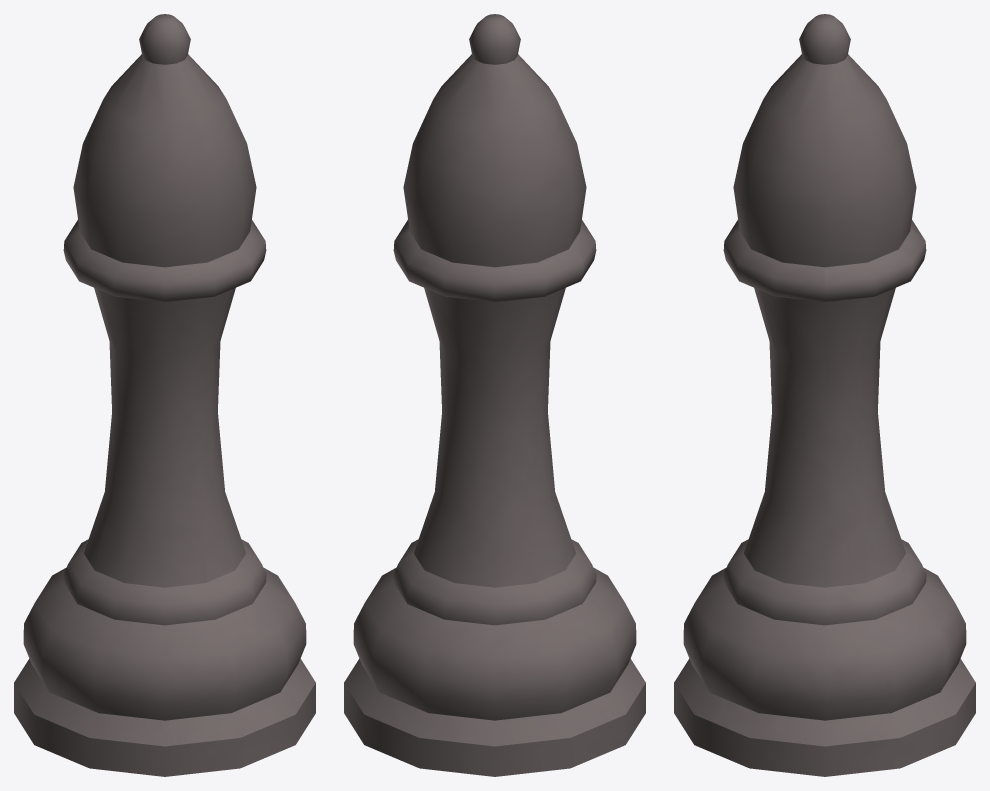
The model's file is Chess_Black_rook.fbx.
3 renders of one model, left to right at view 1: azimuth 30°, elevation 25°; view 2: azimuth 150°, elevation 25°; view 3: azimuth 270°, elevation 25°, orthographic.
Parts seen in each view (by area): view 1: Chess_pawn.002; view 2: Chess_pawn.002; view 3: Chess_pawn.002.
Part boxes in pixels (box(x1,y1,x2,y2)): Chess_pawn.002: box(14, 14, 315, 776); Chess_pawn.002: box(344, 14, 645, 776); Chess_pawn.002: box(674, 14, 975, 776).
Size of the model in its own units: 22.17 by 56.29 by 22.17.
